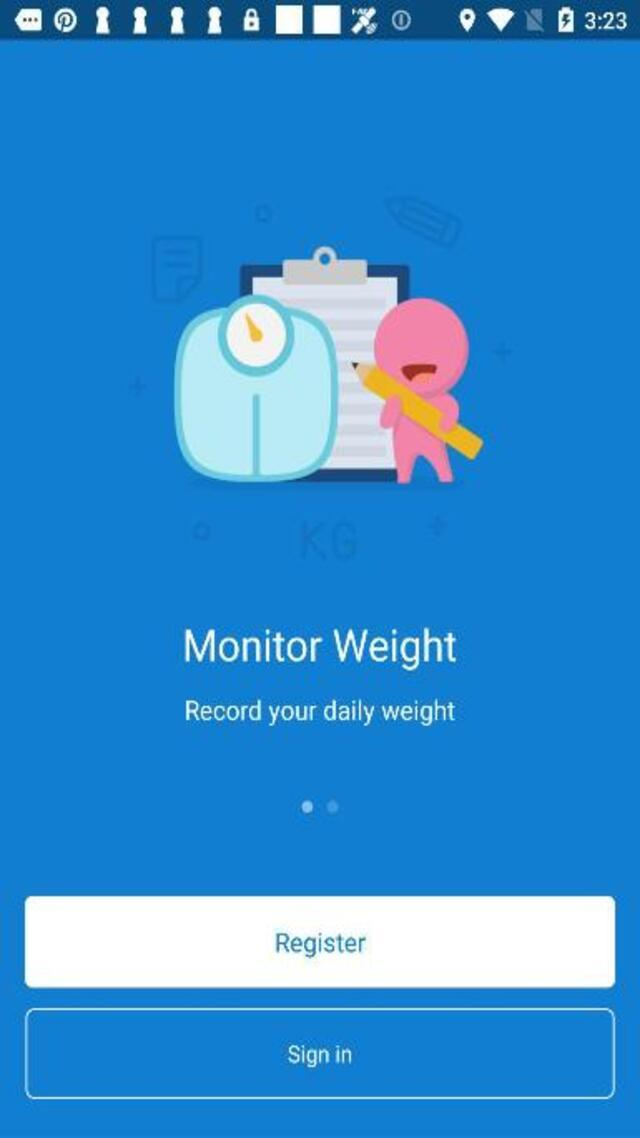Image: (126, 192, 508, 558)
Text: (180, 627, 459, 669), (183, 697, 456, 727), (270, 928, 366, 960), (285, 1039, 356, 1069)
TextButton: (26, 894, 616, 986), (25, 1007, 613, 1098)
